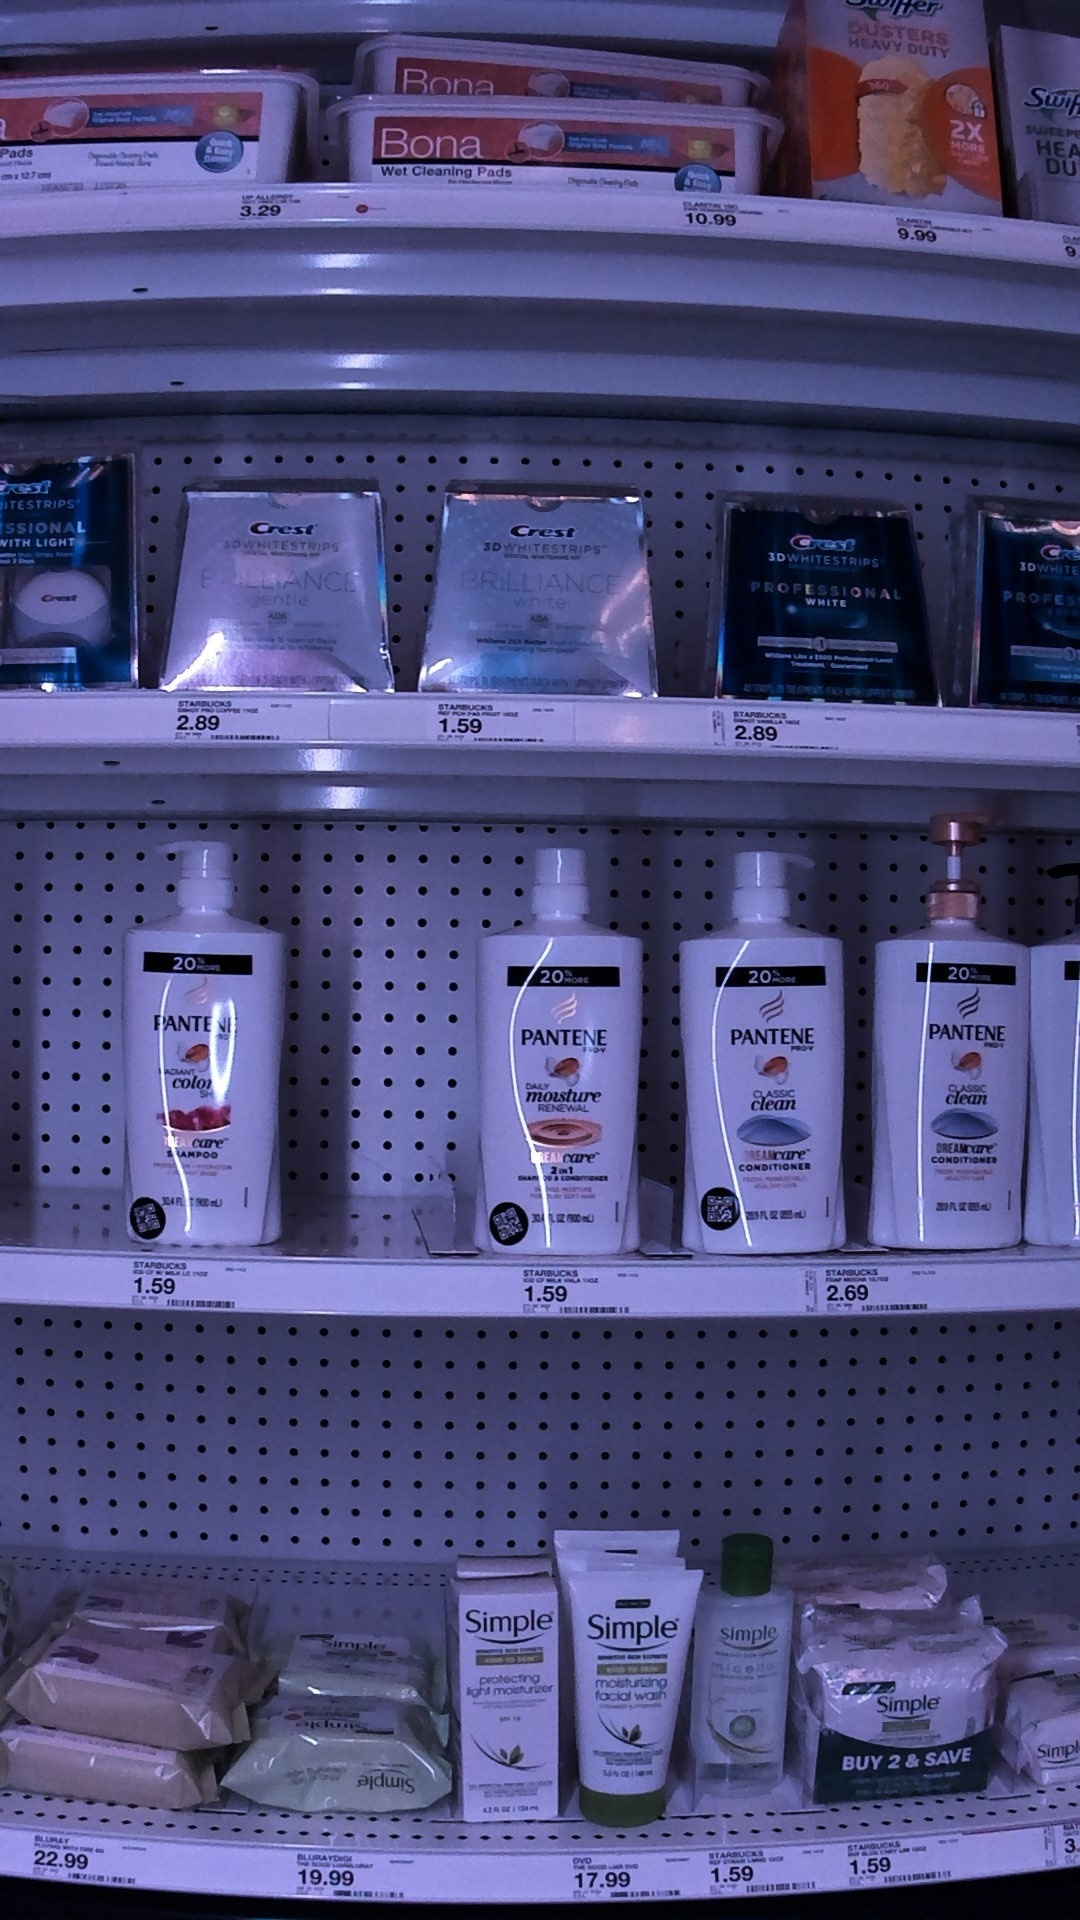ptag: (793, 1255, 934, 1323), (284, 1846, 413, 1913), (22, 1829, 142, 1900), (840, 1824, 955, 1895), (425, 698, 568, 753), (127, 1255, 251, 1317), (516, 1261, 640, 1323), (164, 688, 293, 746), (705, 691, 825, 752), (711, 1842, 818, 1909), (558, 1855, 691, 1905), (882, 202, 973, 262), (233, 182, 324, 237), (678, 191, 764, 240)
